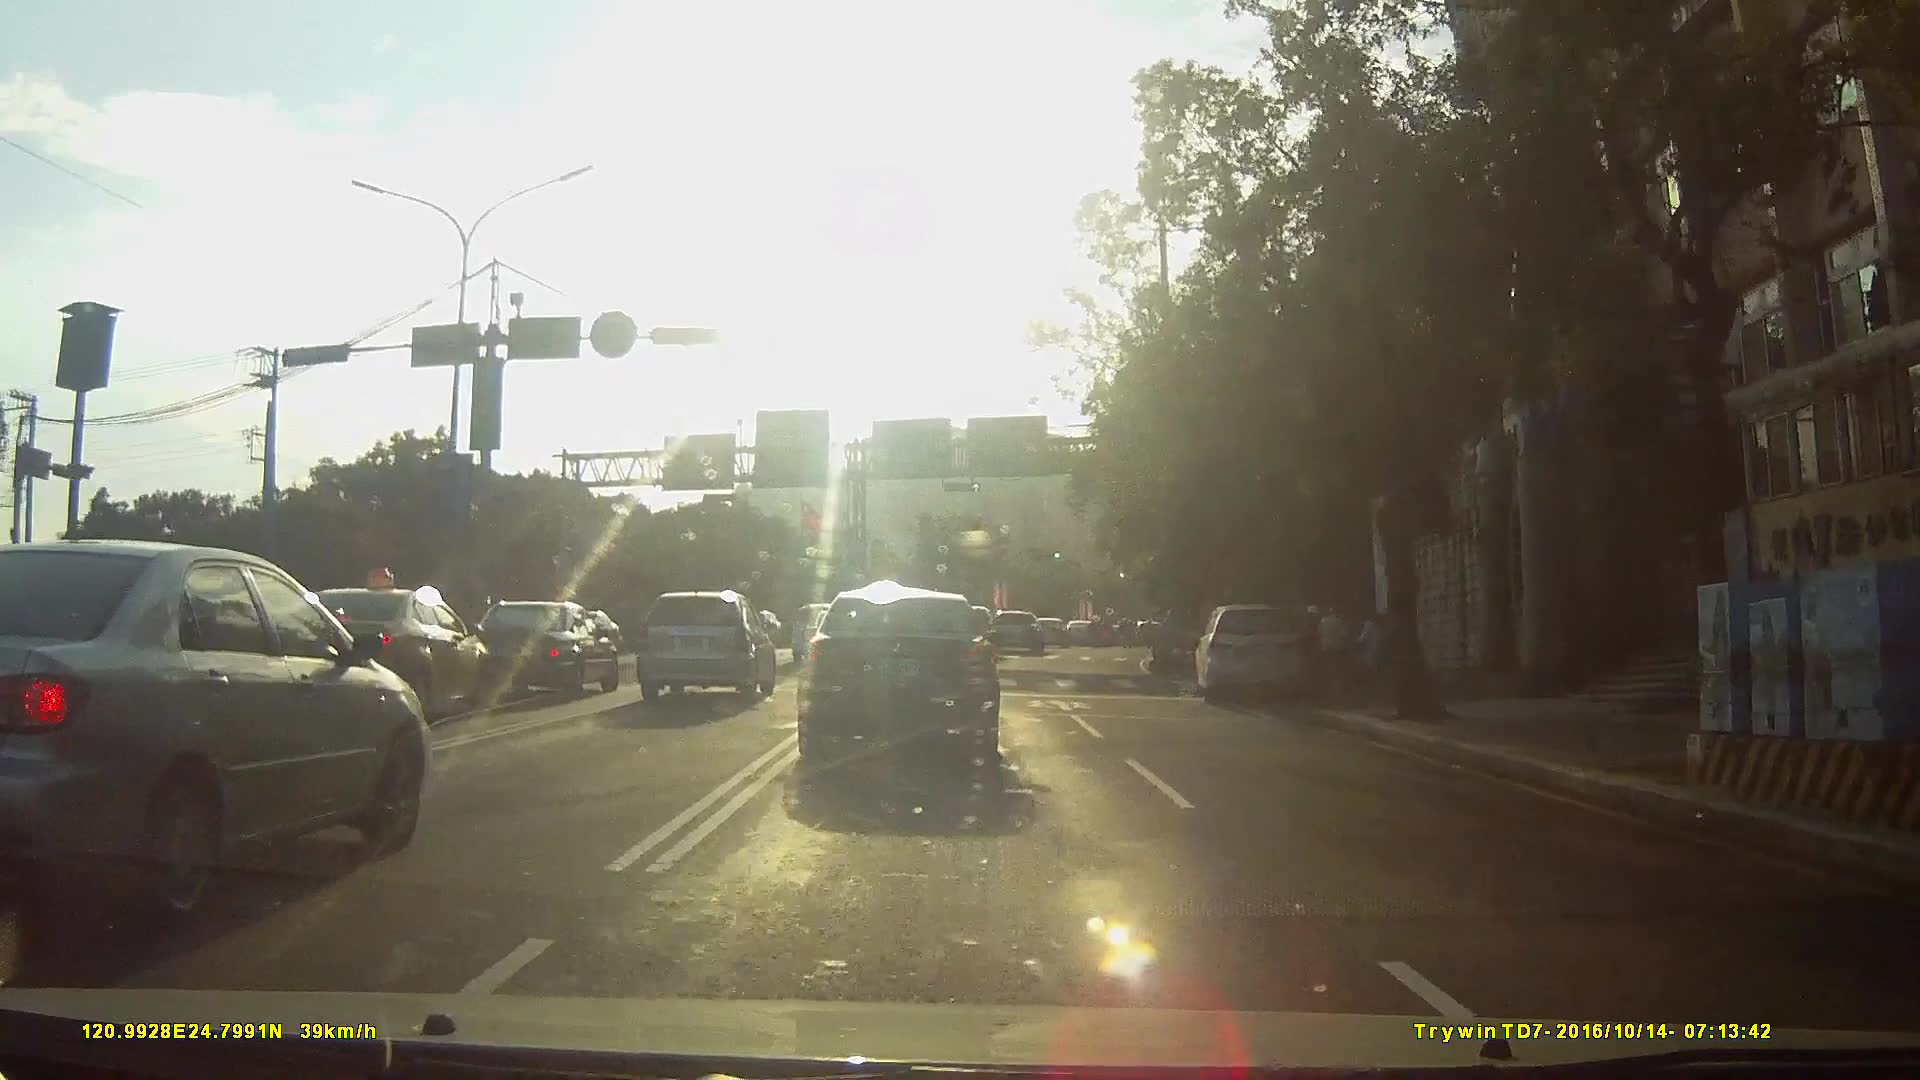pedestrian: (1316, 604, 1358, 667), (1357, 615, 1393, 680)
rider: (1150, 607, 1204, 682)
vehicle: (0, 536, 431, 928), (798, 594, 1023, 791), (253, 584, 471, 720), (446, 599, 615, 701), (633, 587, 776, 703), (1190, 601, 1328, 707), (991, 609, 1049, 655), (1038, 616, 1077, 648), (1067, 616, 1107, 644)
